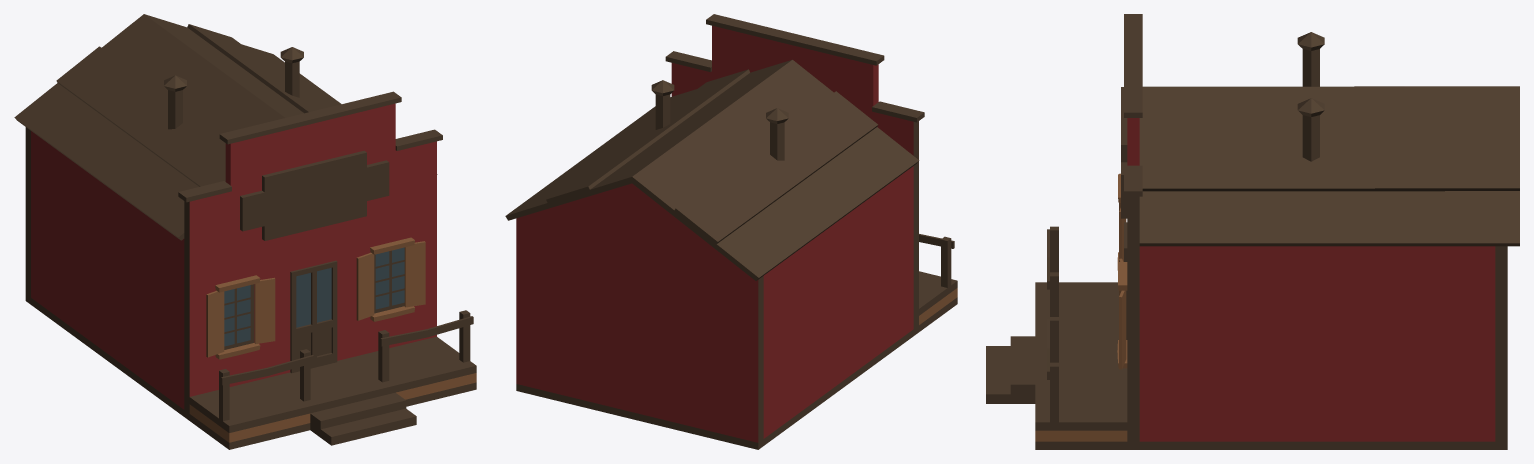
File: western_gunsmith-western.fbx
3 views of the same model, side by side, from view 1: azimuth 30°, elevation 25°; view 2: azimuth 150°, elevation 25°; view 3: azimuth 270°, elevation 25° (orthographic). The views are drawn at different scales.
Parts seen in each view (by area): view 1: western_gunsmith_western; view 2: western_gunsmith_western; view 3: western_gunsmith_western.
Part boxes in pixels (x1,y1,x2,y2): western_gunsmith_western: (14,14,476,449); western_gunsmith_western: (505,14,957,449); western_gunsmith_western: (986,14,1519,449).
Bounding box in the file's own units: 130 × 131 × 200.
